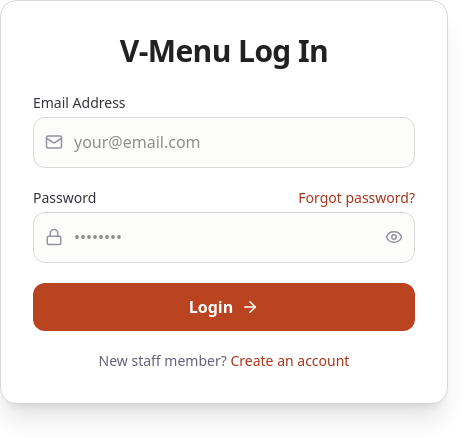
Test: creating a staff account at /login (VM-12, VM-13) › signing in unverified with no roles yet asks to verify, instead of an empty list
In the field labelled "Email Address": point(224, 142) [33,117,415,168], type "dara@x.test"
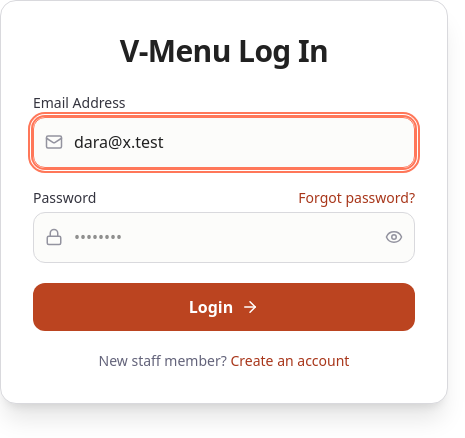
In the password field labelled "Password": point(224, 237) [33,212,415,263], type "secret-123"
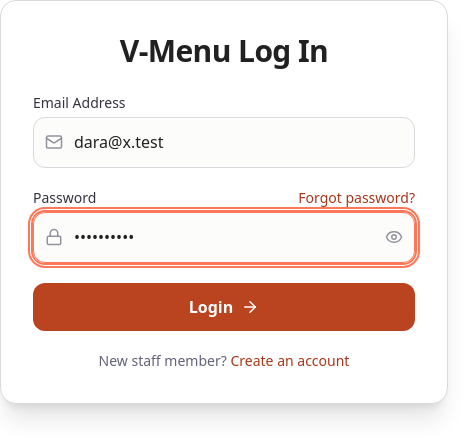
Click the button "Login": point(224, 307) [33,283,415,331]
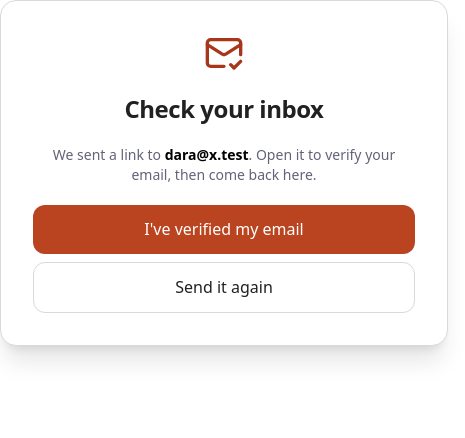
Expected: the heading "Check your inbox" is shown, [124,92,324,125]
